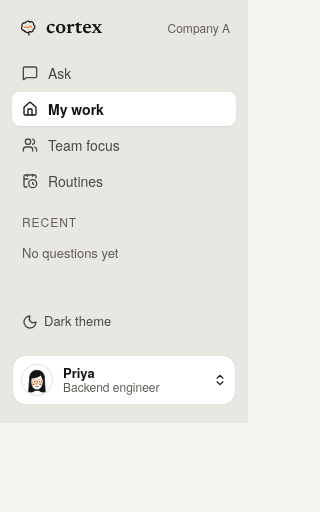
shows console links only to the roles that may use them
This screenshot has width=320, height=512.
expect the text "Audit console" is not shown: met
Step 1. Click the button "Priya Backend engineer" → [124, 380], box x1=12 y1=355 x2=236 y2=405
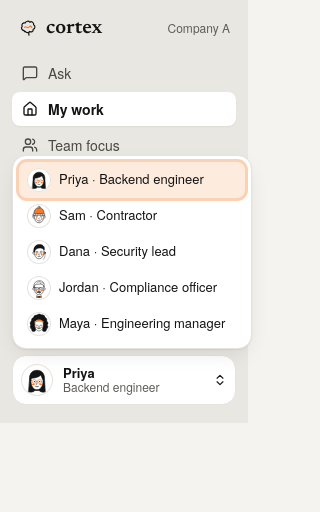
Step 2. Click the option "Jordan · Compliance officer" → [122, 288], box x1=27 y1=276 x2=217 y2=300
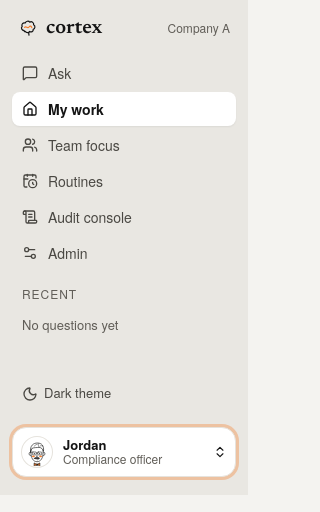
expect the link "Audit console" is shown: met, box x1=22 y1=207 x2=132 y2=227
expect the link "Admin" is shown: met, box x1=22 y1=243 x2=88 y2=263
